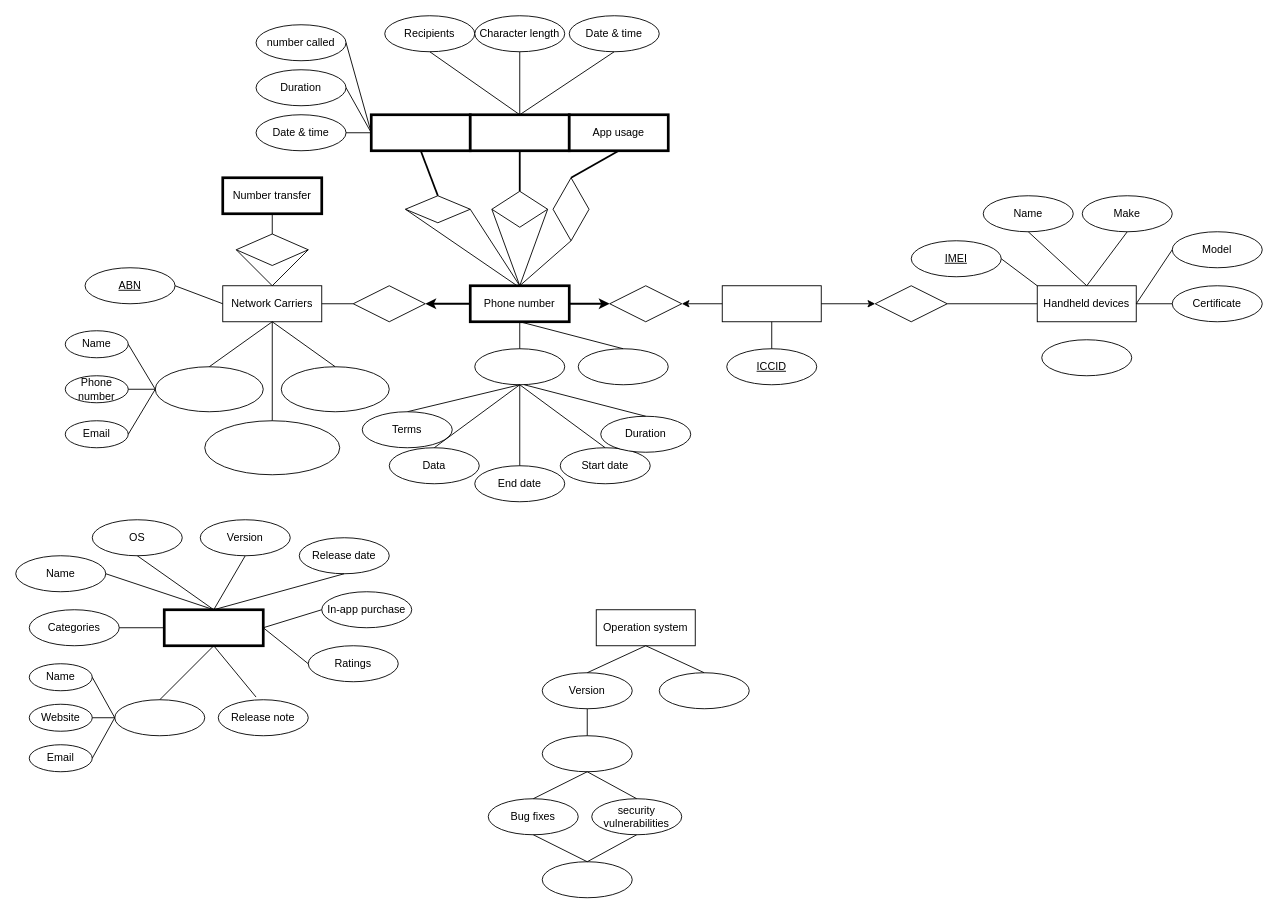
Some shapes in this 1278 by 914 pixel diagram are drawn without their labels. Here are the shapes that lost their labels. From the top down, the centre of each, then its label:
the point at 420,132: Phone calls
the point at 519,132: Messages
the point at 437,209: Call
the point at 519,208: Message
the point at 570,209: App data use
the point at 271,249: Transfer
the point at 388,303: assign
the point at 645,303: associated
the point at 771,303: Sim & e-sims
the point at 910,303: insert
the point at 519,366: Plan
the point at 622,366: Status
the point at 208,389: Data officer (Chef & Technical)
the point at 334,389: Name (Legal & Trading)
the point at 272,447: Postal address of Head Office
the point at 213,627: Apps
the point at 703,690: Vendor
the point at 159,717: Developer
the point at 586,753: Patch note
the point at 586,879: Date
